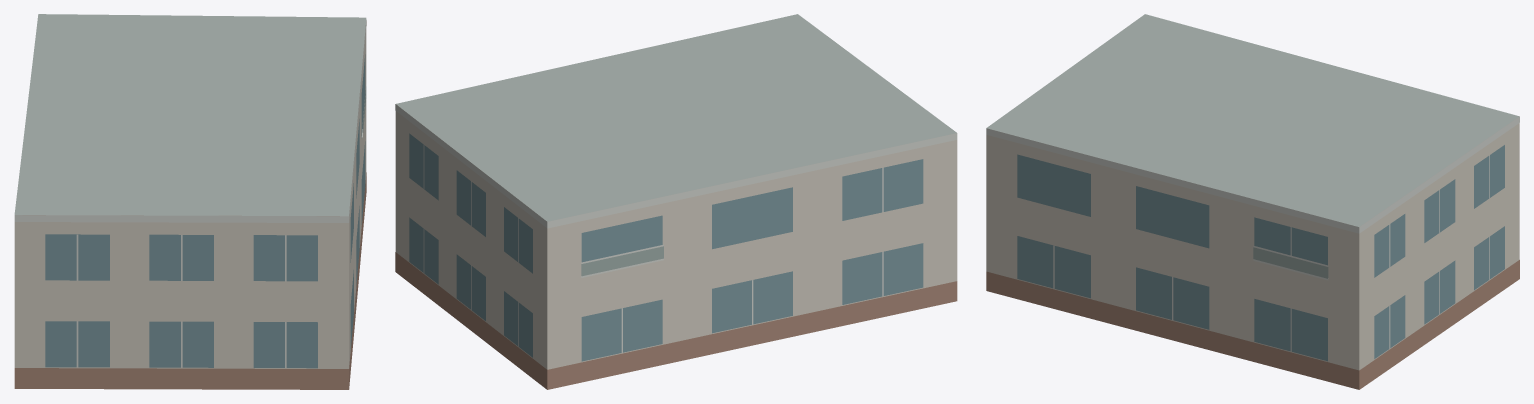
Rendered from survey-upis-32932337.glb.
3 views of the same model, side by side, from view 1: azimuth 30°, elevation 25°; view 2: azimuth 150°, elevation 25°; view 3: azimuth 270°, elevation 25° (orthographic). The views are drawn at different scales.
Parts seen in each view (by area): view 1: survey-upis-32932337.tmp; view 2: survey-upis-32932337.tmp; view 3: survey-upis-32932337.tmp.
Part boxes in pixels (bbox=[...]): survey-upis-32932337.tmp: bbox=[14, 14, 366, 389]; survey-upis-32932337.tmp: bbox=[395, 14, 957, 389]; survey-upis-32932337.tmp: bbox=[986, 14, 1519, 389].
Size of the model in its own units: 17.15 by 6.1 by 18.13.
